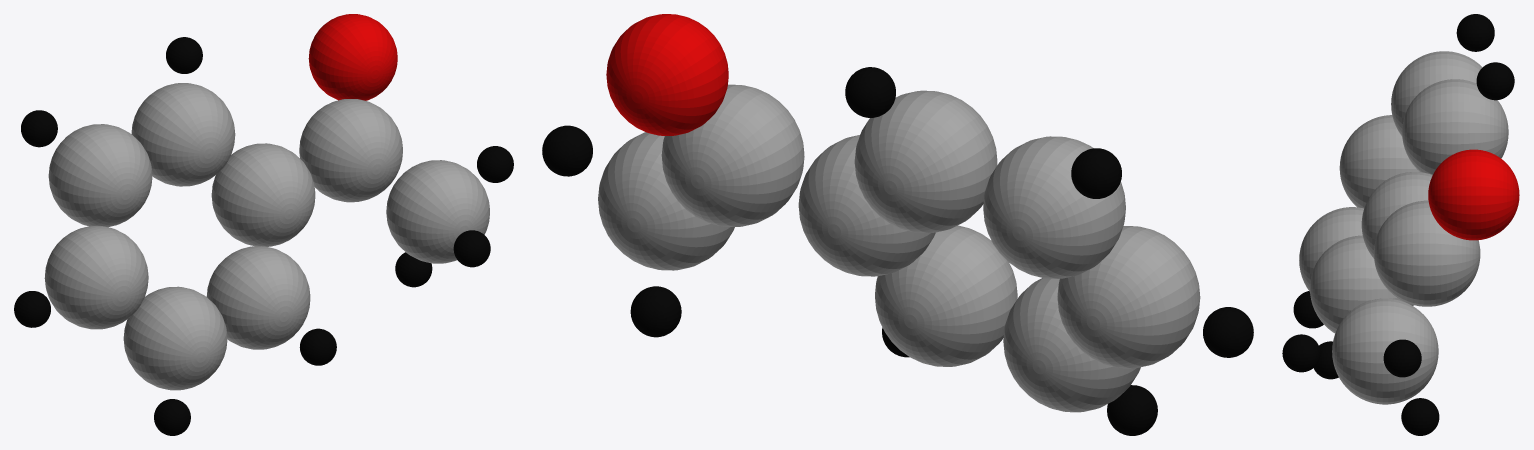
Rendered from Acetophenone.glb.
3 renders of one model, left to right at view 1: azimuth 30°, elevation 25°; view 2: azimuth 150°, elevation 25°; view 3: azimuth 270°, elevation 25°, orthographic. The views are drawn at different scales.
Visible parts, largest first — view 1: world; view 2: world; view 3: world.
Boxes of the visible parts, box(x1,y1,x2,y2) form: world: box(14, 14, 513, 435); world: box(542, 14, 1253, 435); world: box(1282, 14, 1519, 435).
Size of the model in its own units: 7.84 by 4.54 by 3.11.
